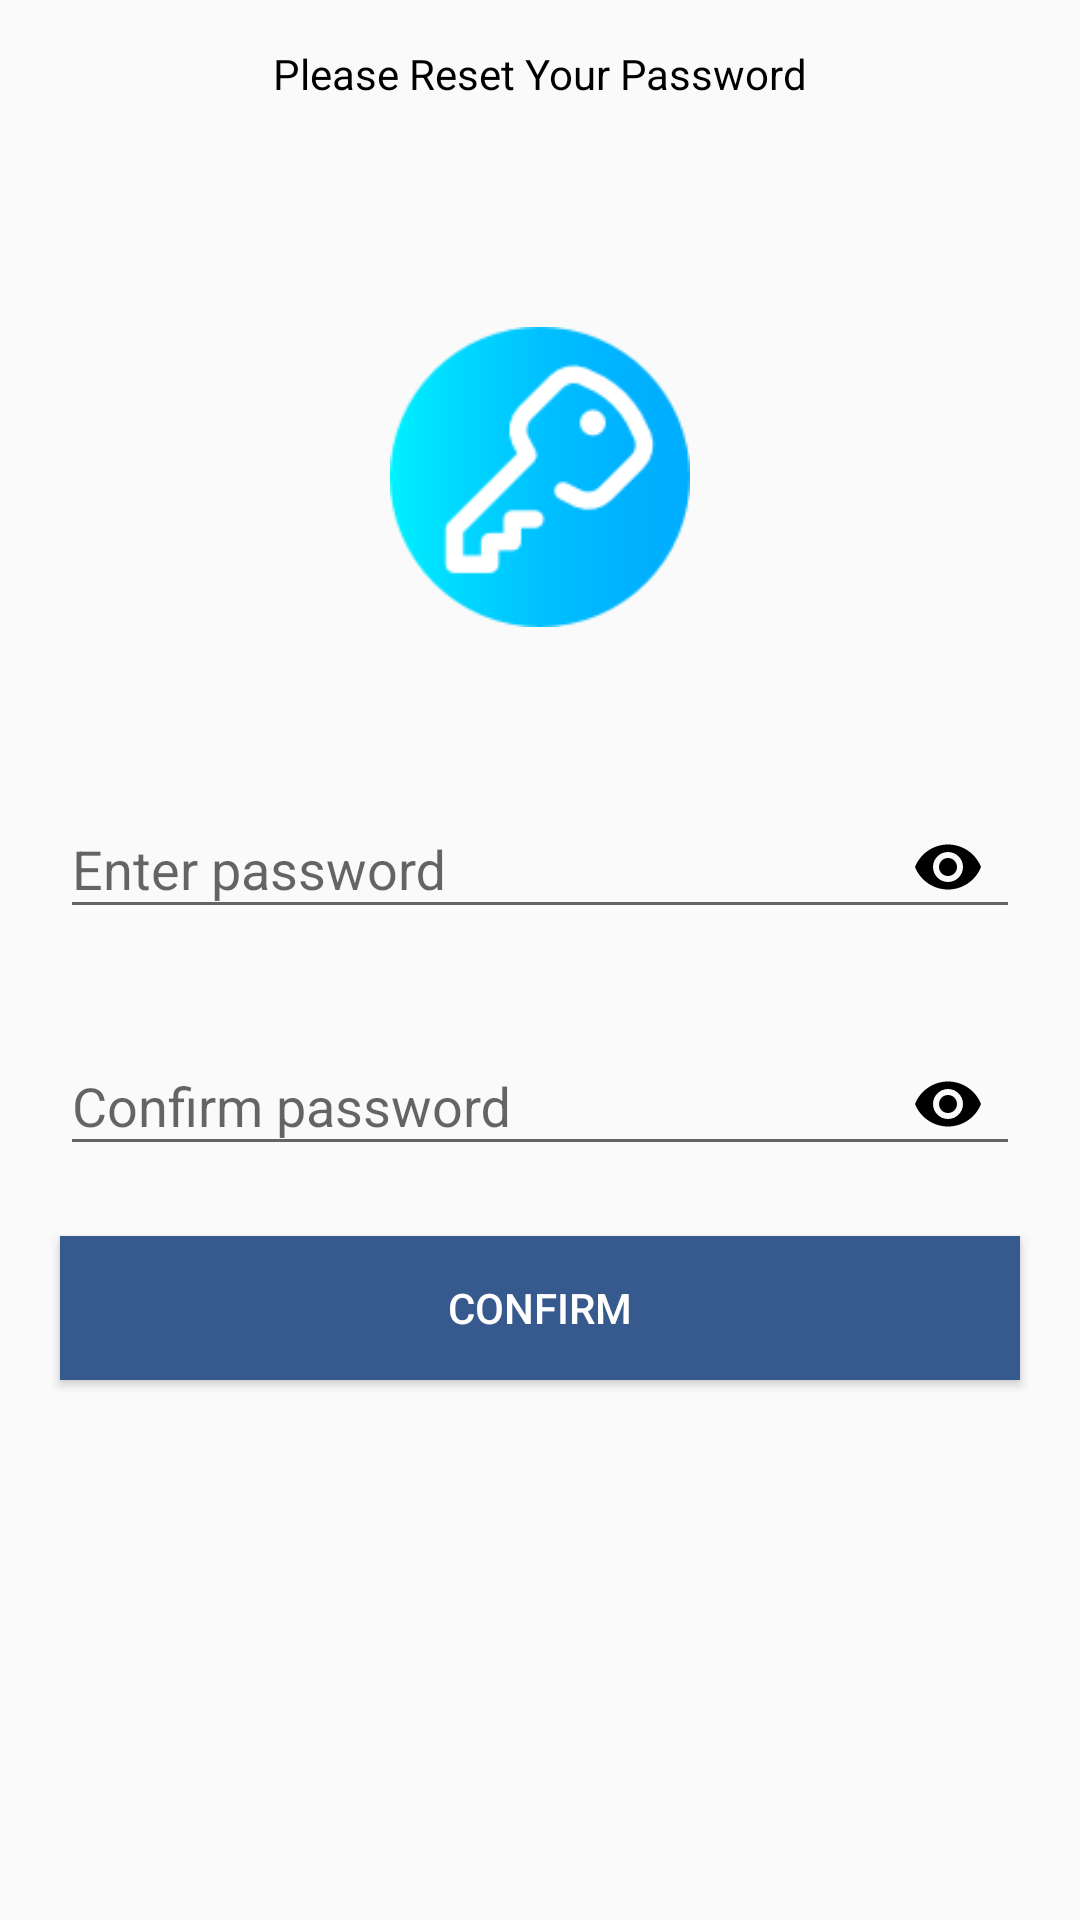

Screen size 1080w x 1920h. Icon name, then its center in pixels as (x=x, y=y):
key: (x=540, y=477)
